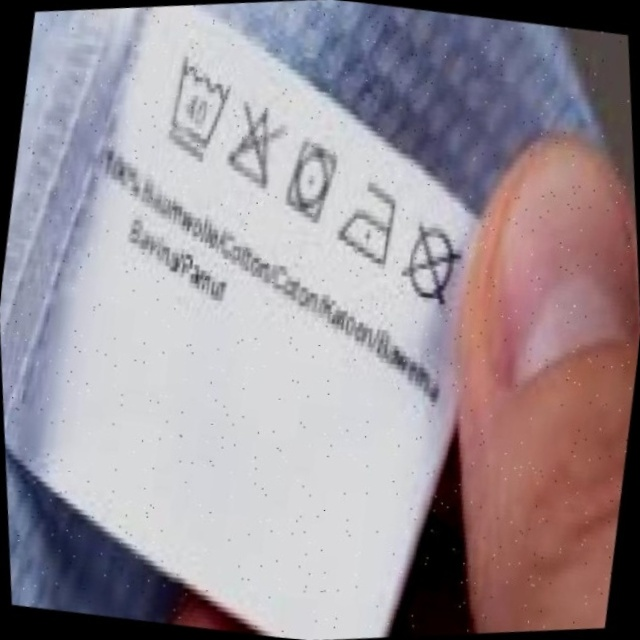40C: (141, 46, 249, 169)
DN_bleach: (209, 92, 301, 201)
DN_dry_clean: (383, 209, 480, 320)
iron_low: (323, 169, 416, 276)
tumble_dry_low: (269, 131, 352, 231)
